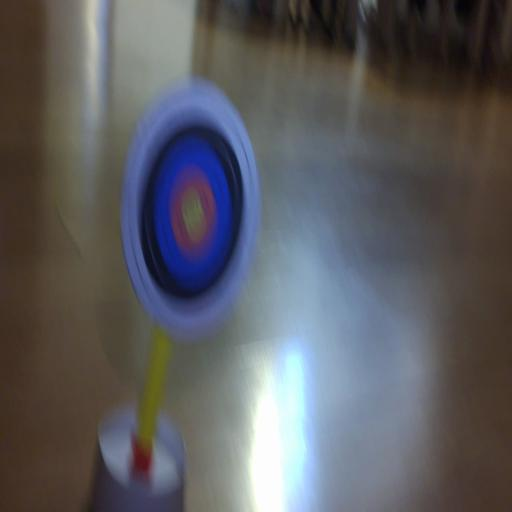target: (122, 80, 259, 340)
